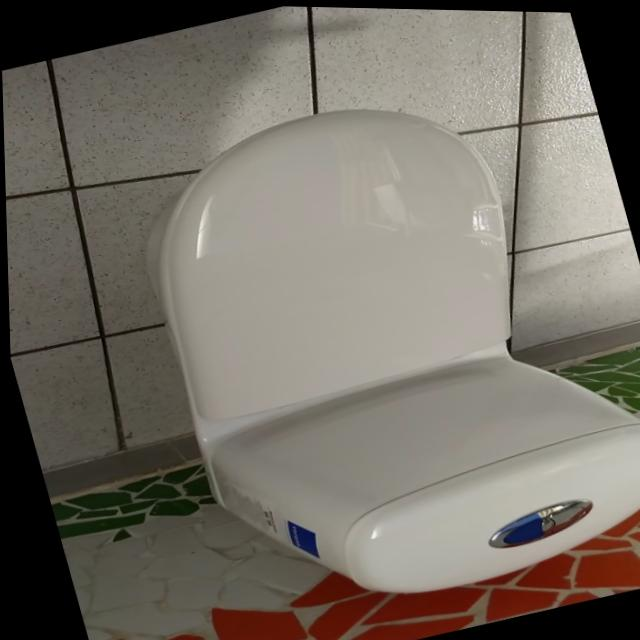toilet: (112, 46, 640, 640)
